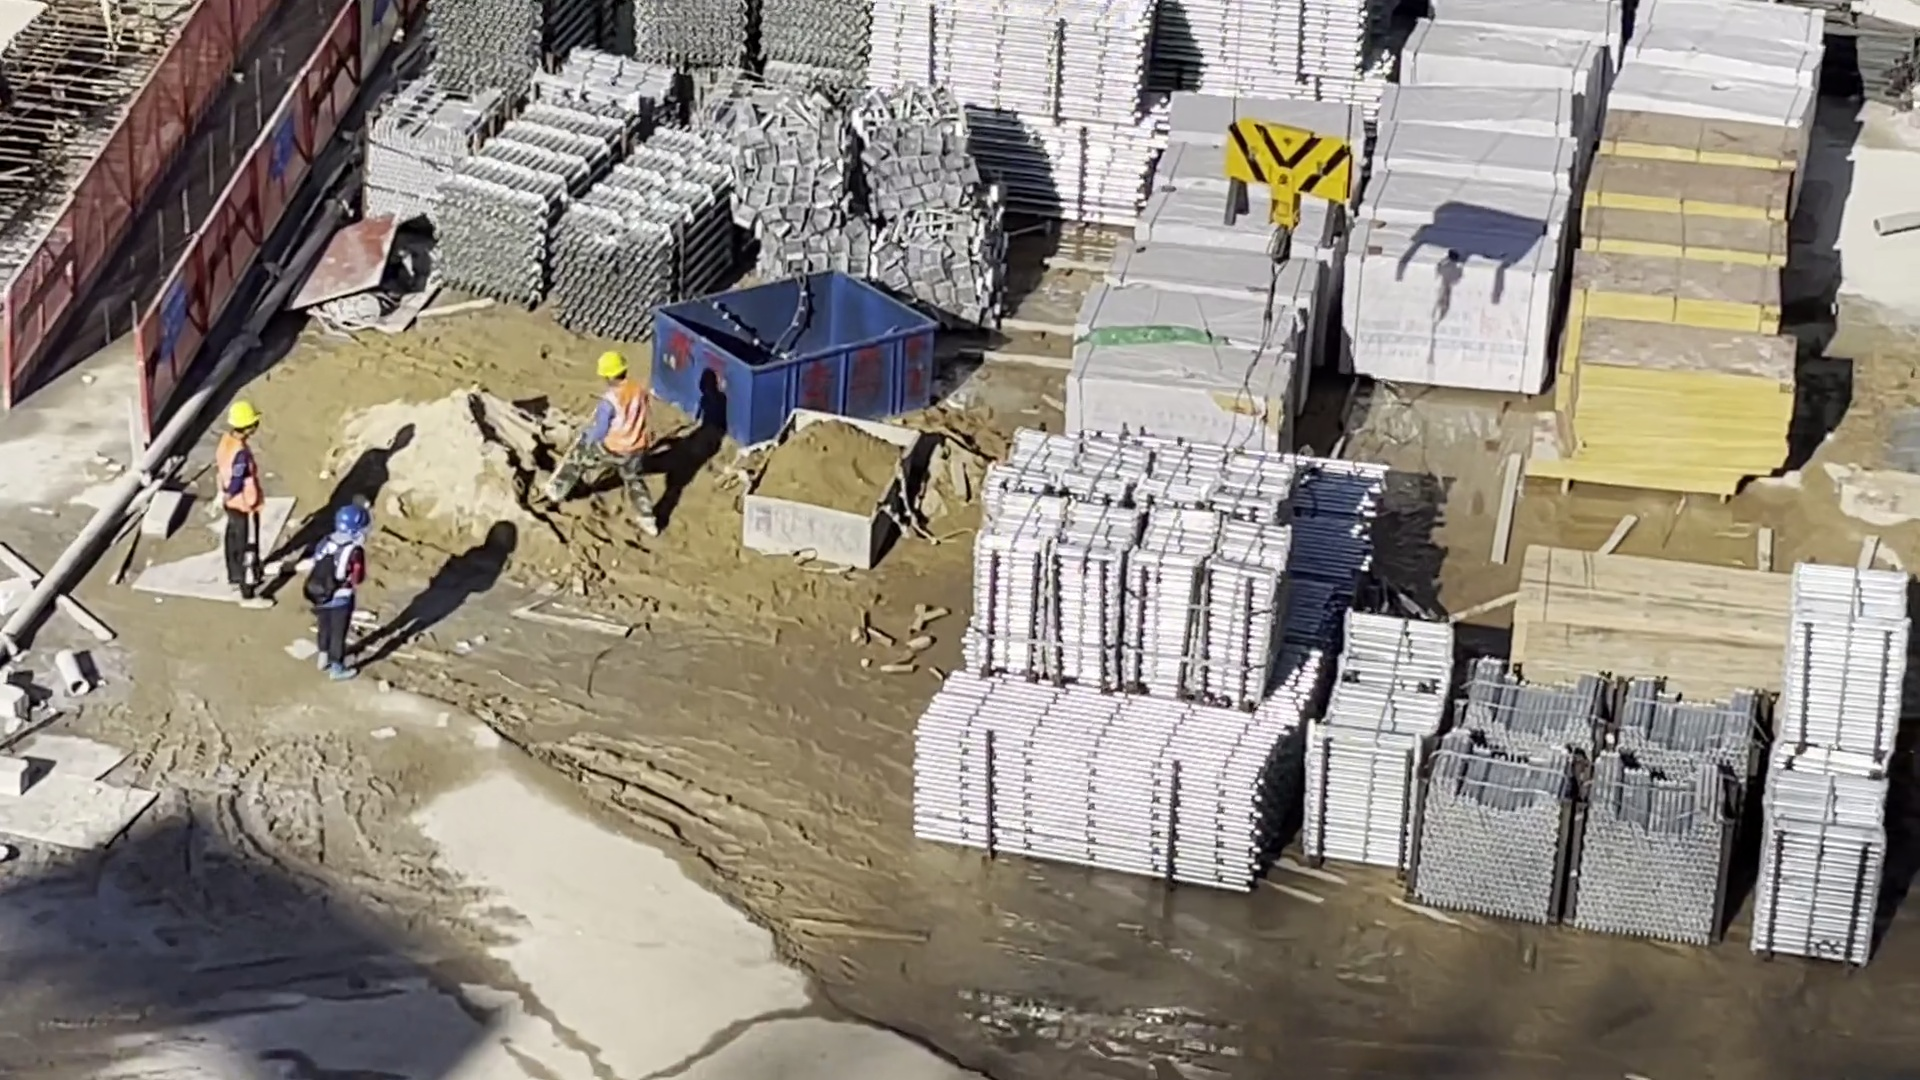fence: (6, 3, 382, 410)
helmet: (581, 339, 638, 386), (219, 393, 271, 438), (324, 498, 370, 534)
hook: (1203, 88, 1359, 249)
hopper: (659, 256, 935, 415), (743, 387, 914, 563)
person: (300, 493, 378, 692), (205, 394, 274, 604), (579, 360, 663, 530)
scaffold: (892, 432, 1433, 897), (1430, 665, 1727, 958), (1754, 582, 1915, 1010), (870, 1, 1147, 234), (513, 87, 657, 318), (632, 1, 858, 92), (423, 1, 534, 91)
vest: (587, 391, 653, 456), (209, 439, 261, 510)
